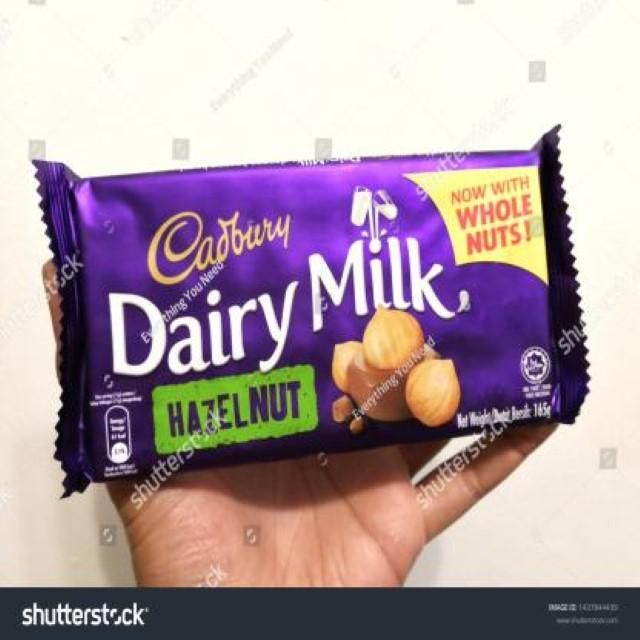cadbury_chocolate: (42, 173, 590, 437)
